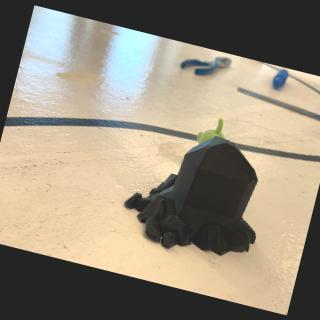teletubby: (196, 118, 225, 144)
